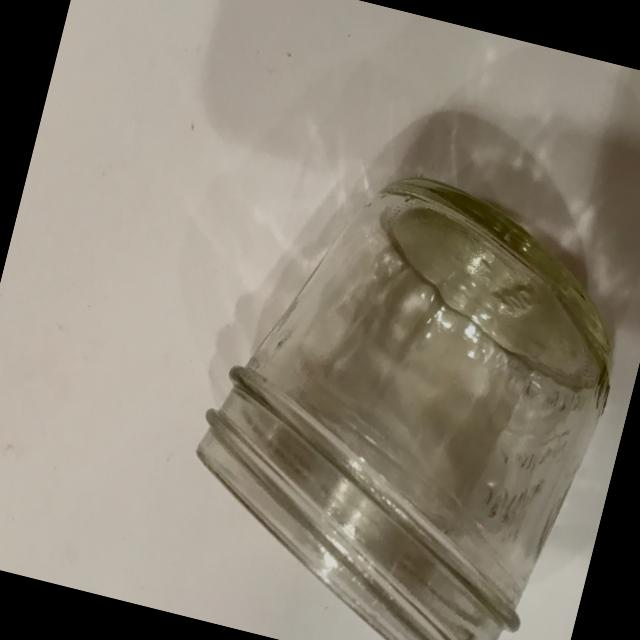Glass: (140, 130, 640, 640)
